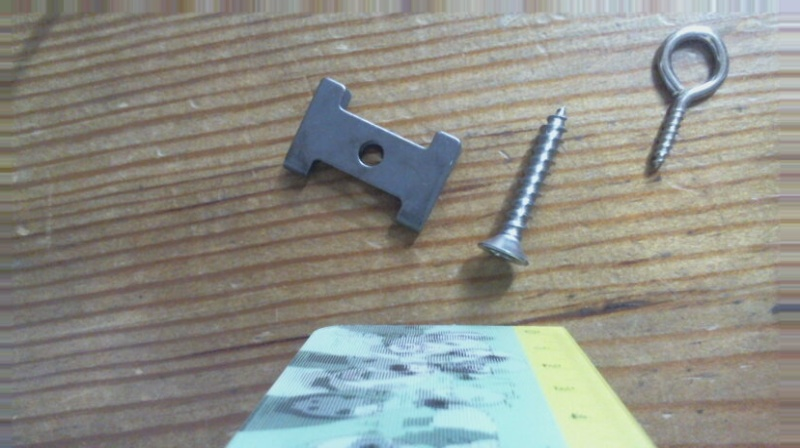O001: (642, 21, 730, 181)
O002: (281, 75, 462, 235)
S001: (477, 105, 572, 267)
